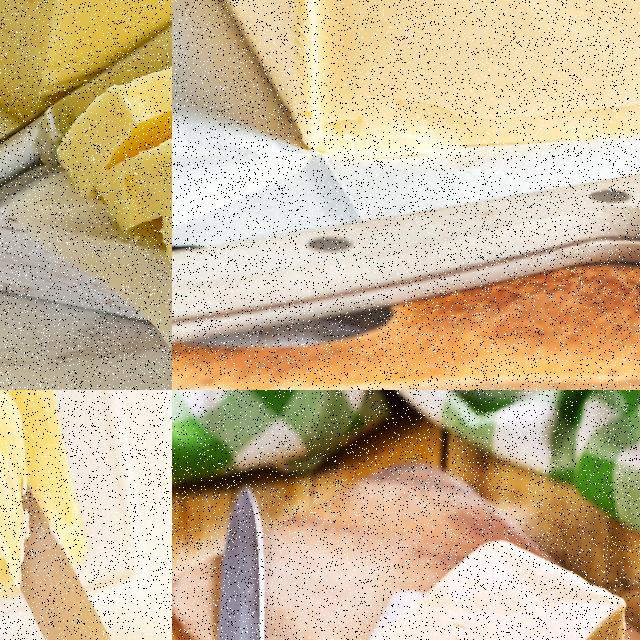butter: (172, 0, 639, 201), (55, 10, 171, 342), (325, 534, 629, 639), (0, 390, 89, 636), (0, 0, 171, 122)
